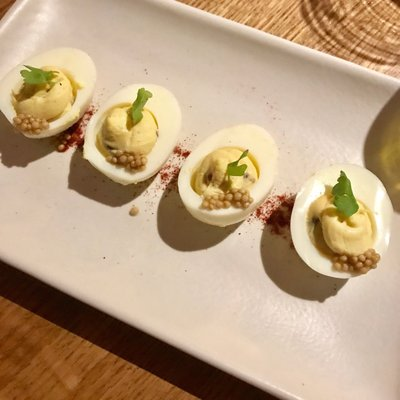curry: (0, 0, 400, 357)
